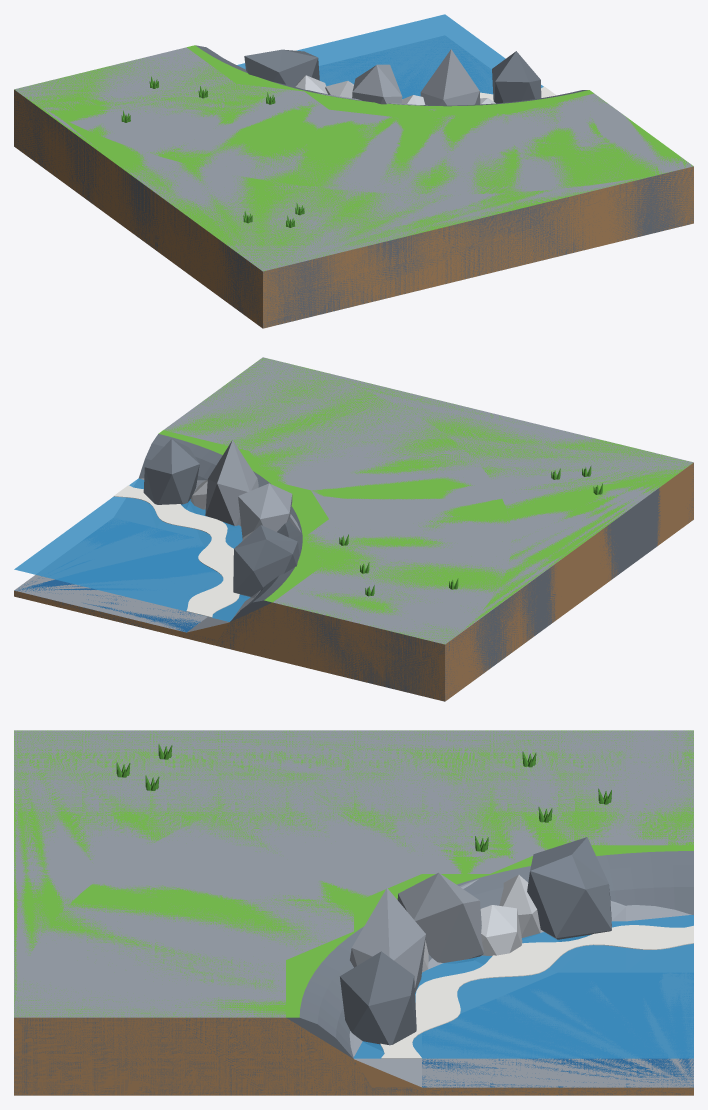
File: costa_rocha_canto_int.glb
3 views of the same model, one above another, from view 1: azimuth 30°, elevation 25°; view 2: azimuth 150°, elevation 25°; view 3: azimuth 270°, elevation 25° (orthographic). The views are drawn at different scales.
Parts seen in each view (by area): view 1: colisao_rocha, costa_rocha_canto_int; view 2: colisao_rocha, costa_rocha_canto_int; view 3: colisao_rocha, costa_rocha_canto_int.
Boxes of the visible parts, x1,y1,x2,y2 form: colisao_rocha: (14,47,693,328); costa_rocha_canto_int: (14,14,693,328); colisao_rocha: (14,357,693,701); costa_rocha_canto_int: (14,358,693,701); colisao_rocha: (14,730,693,1095); costa_rocha_canto_int: (14,730,693,1095).
Size of the model in its own units: 15 by 3.34 by 15.
Materials: 2 (1 with a texture image).
